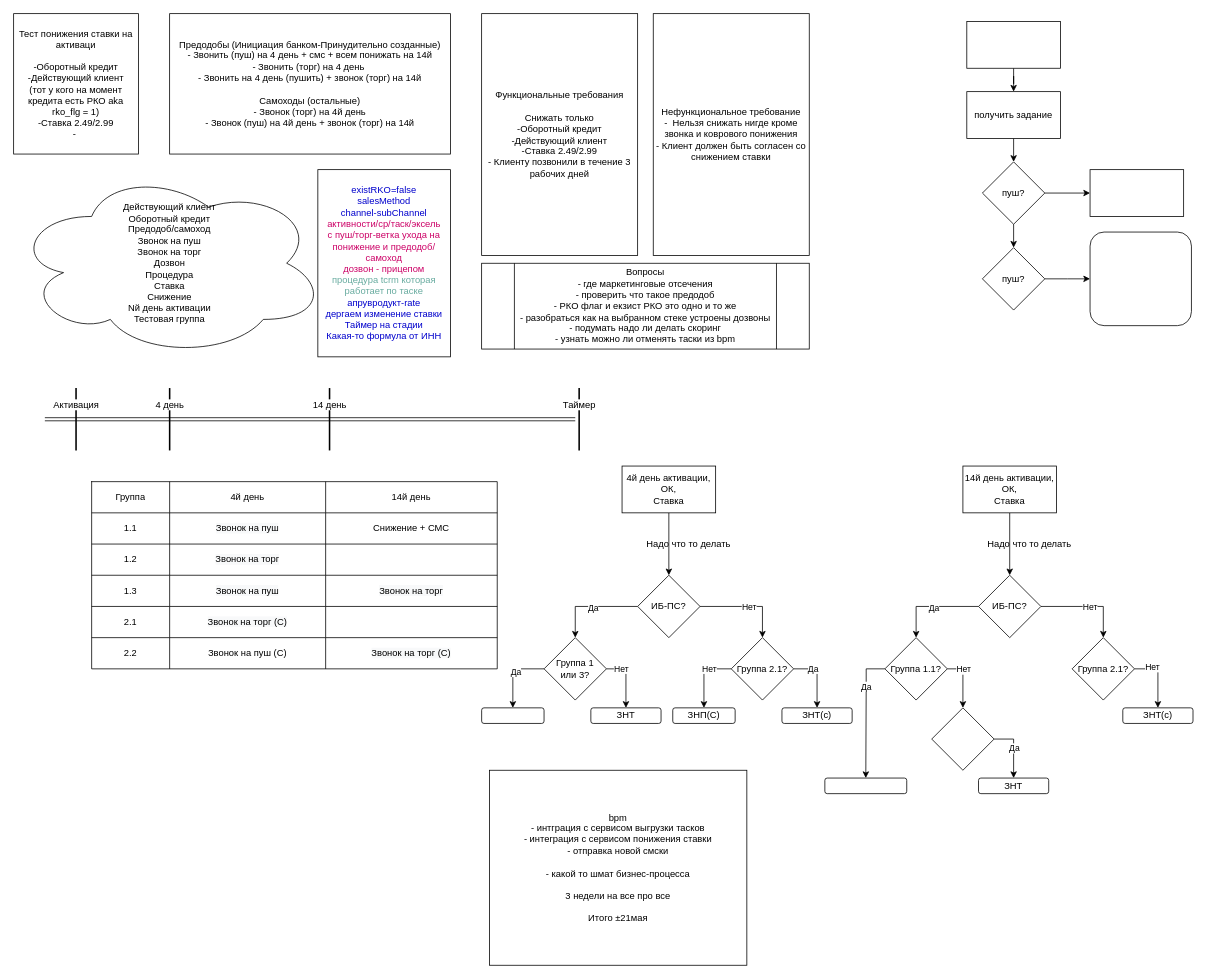
This 1207x979 diagram has some shape labels left out. The centre of each missing label's shape, as x and y in pixels:
"Группа 1.3?" goes at (x=962, y=738).
"ЗНП" goes at (x=512, y=715).
"опер" goes at (x=1013, y=44).
"пушу хули" goes at (x=1136, y=192).
"Снижение (Можно дернуть только из процедуры, которая запускается по таску)" goes at (x=1140, y=278).
"Снижение+СМС" goes at (x=865, y=785).
